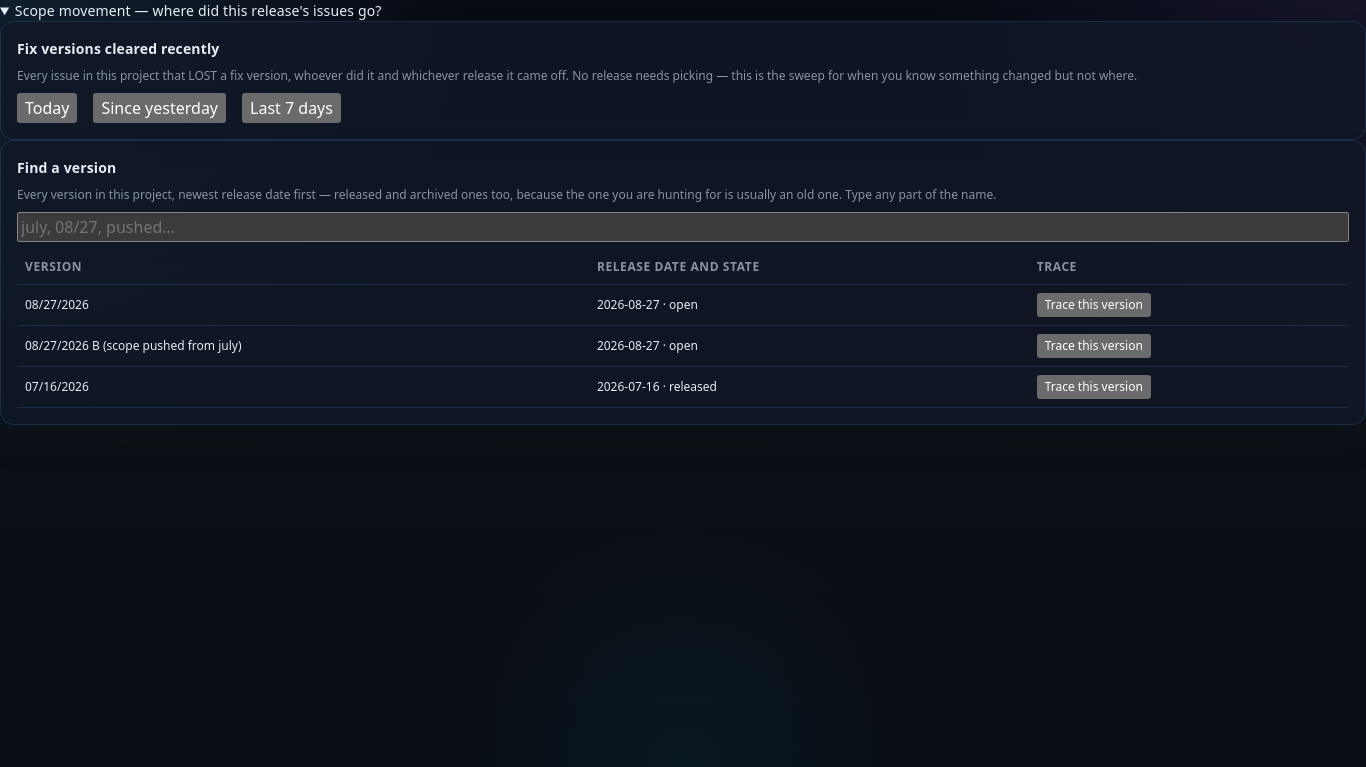
Test: VersionMovementPanel — tracing what left › names each departure and the version it went to
Click the 1st button "Trace this version".
click(1094, 305)  # box x1=1037 y1=293 x2=1151 y2=317
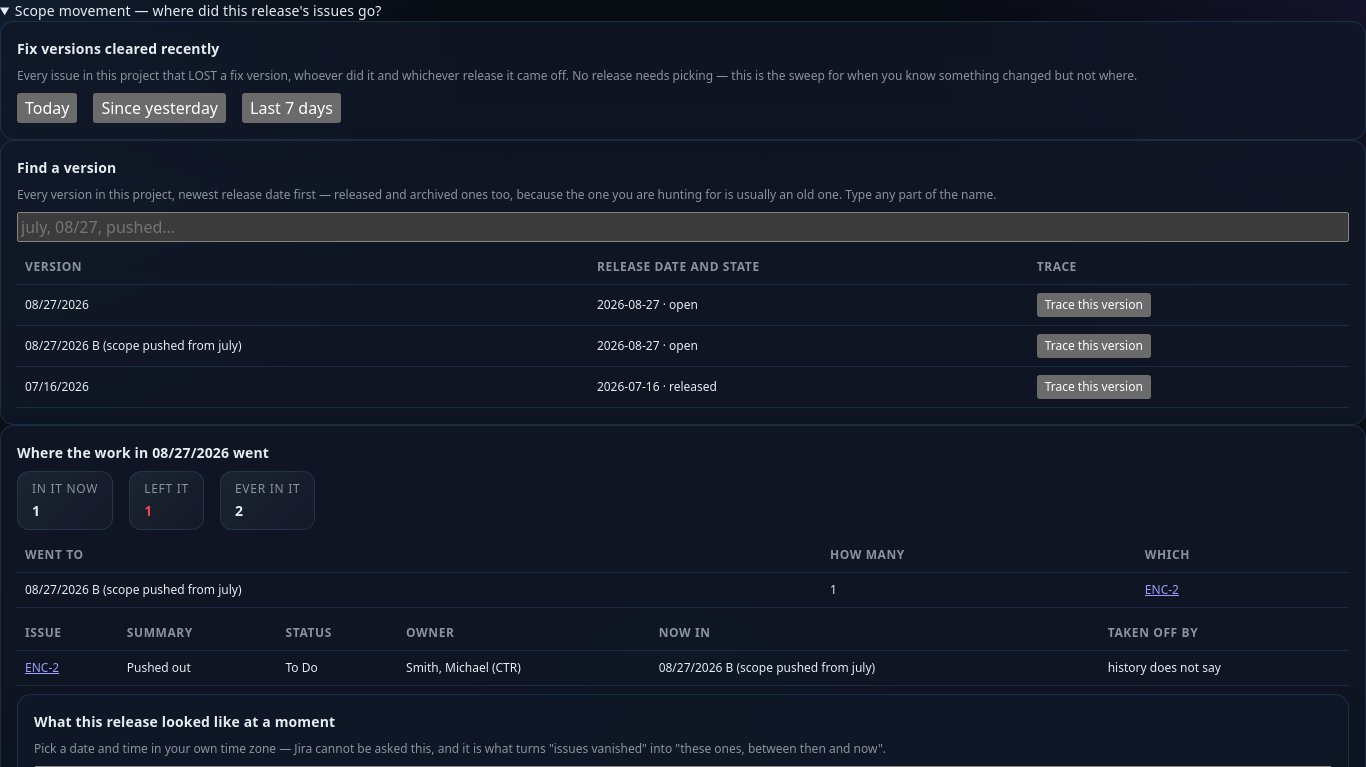
Expected: the text "08/27/2026 B (scope pushed from july)" below "Release date and state" is shown, x1=25 y1=337 x2=242 y2=354
Now the link "ENC-2" below "How many" is shown, box x1=1145 y1=581 x2=1179 y2=598
